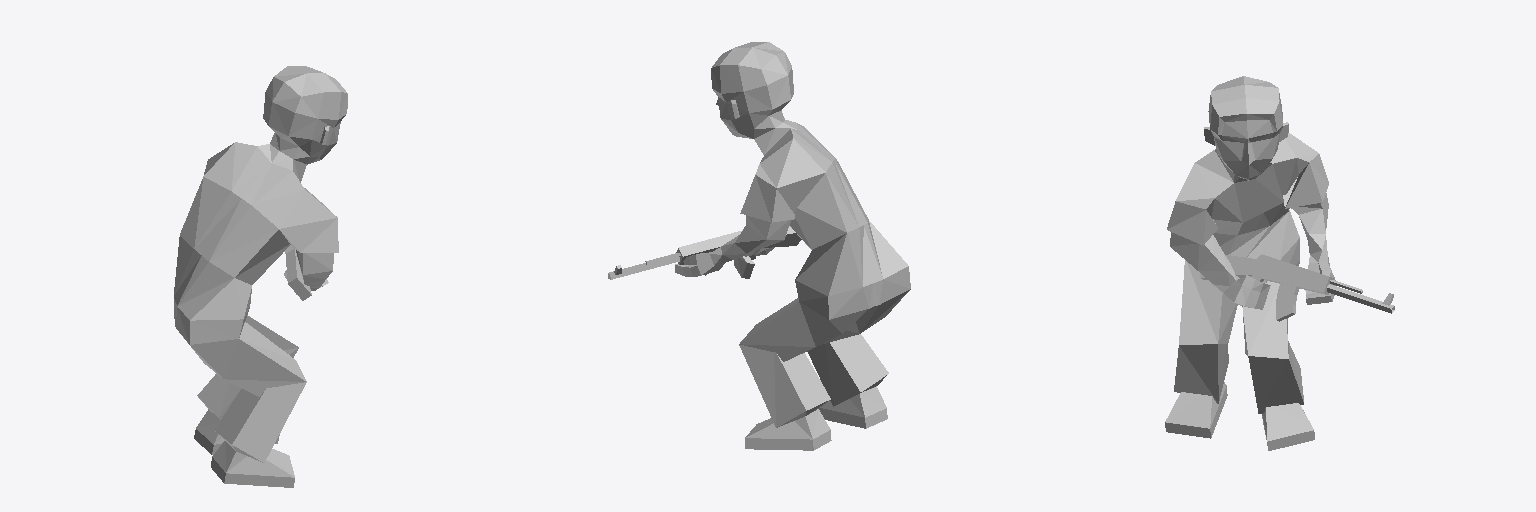
File: player_male_rolling_0.obj
The picture shows the model from 3 angles: view 1: azimuth 30°, elevation 25°; view 2: azimuth 150°, elevation 25°; view 3: azimuth 270°, elevation 25°; orthographic projection.
Size of the model in its own units: 0.8588 by 1.47 by 0.817.